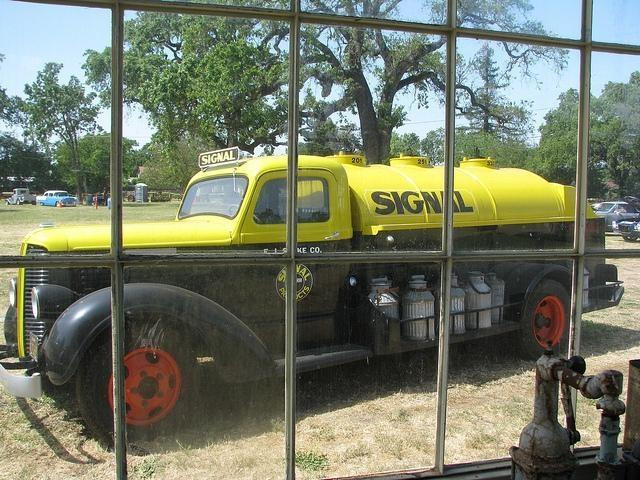car: (591, 202, 640, 232), (611, 212, 640, 241), (36, 190, 78, 206)
truck: (0, 151, 625, 446), (5, 188, 37, 206)
